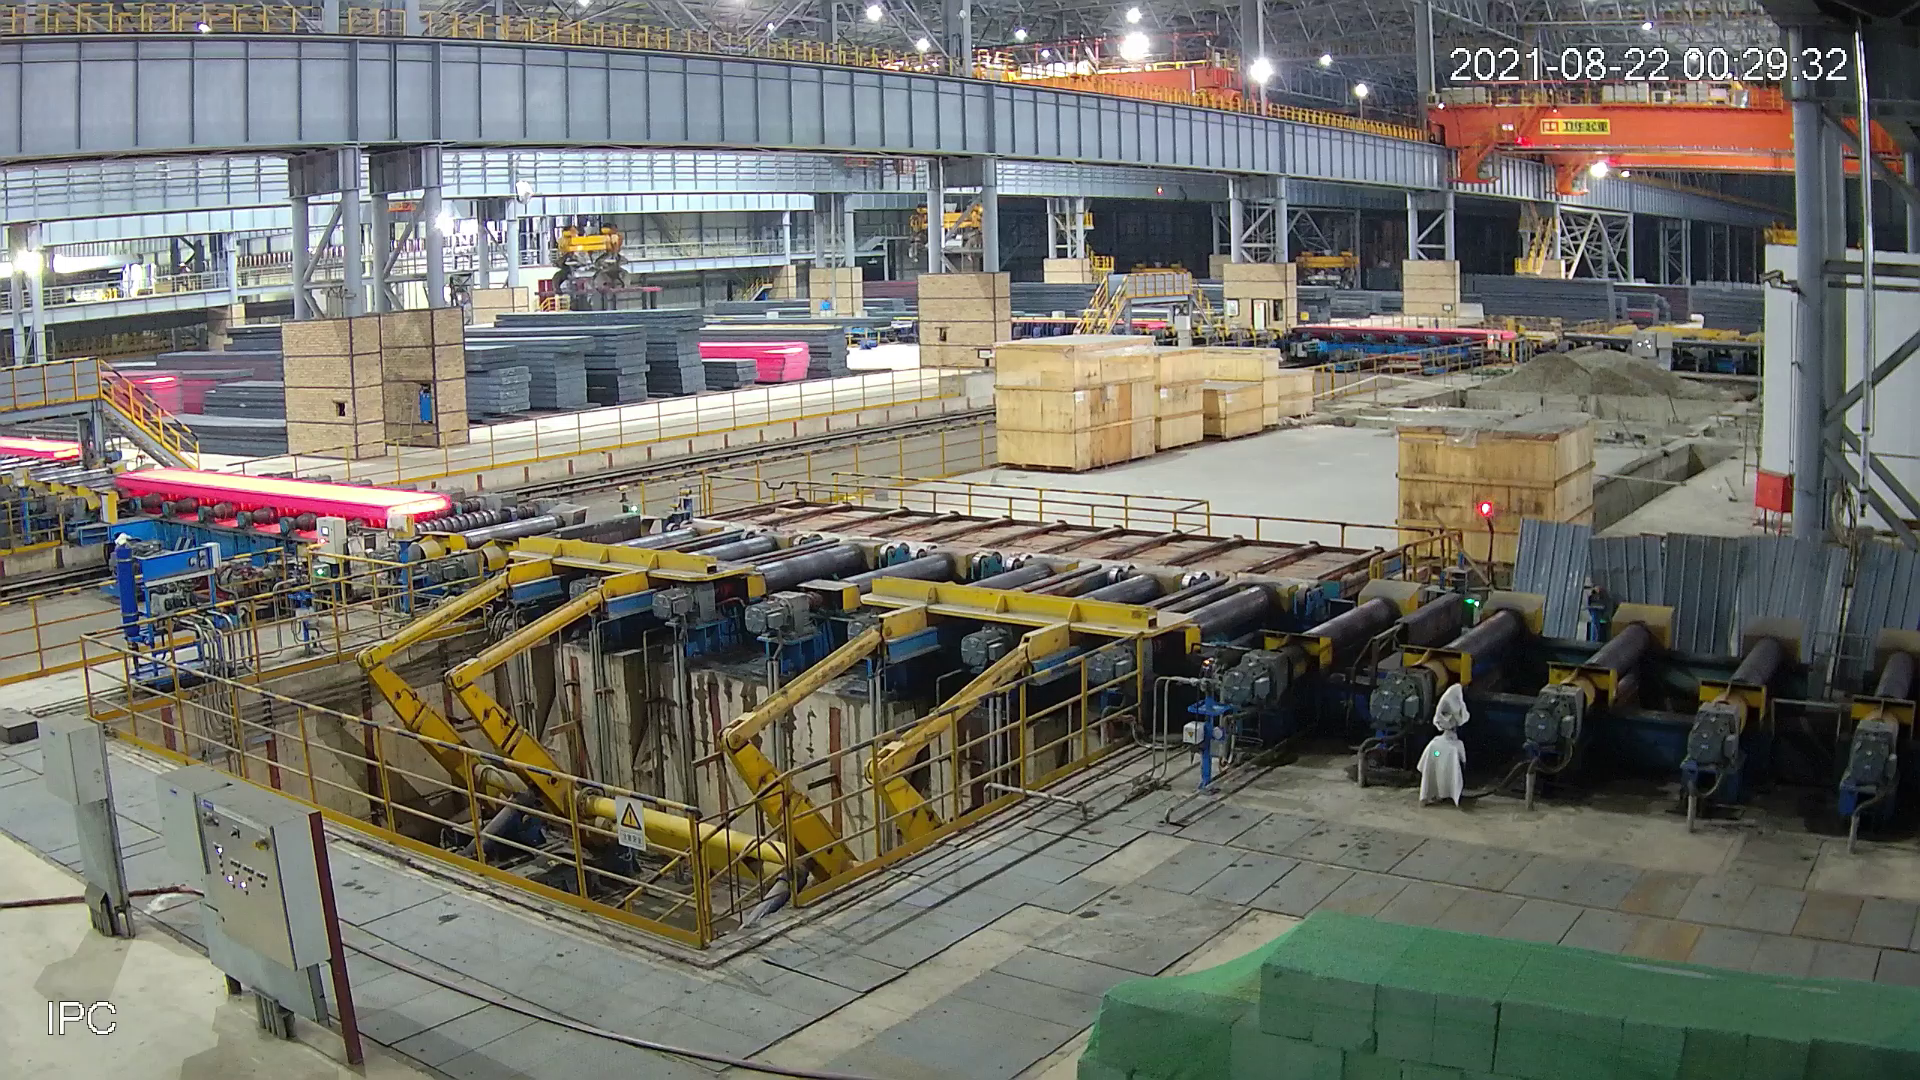slab: (512, 756, 1275, 848)
